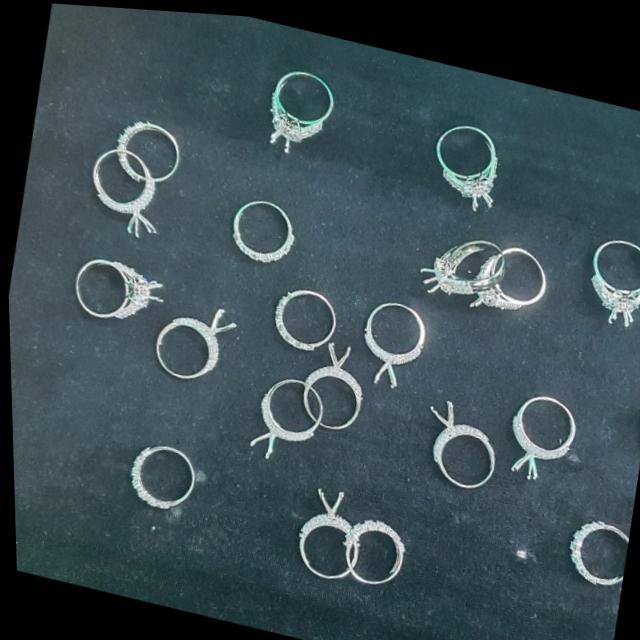Ring: (241, 42, 348, 161), (408, 387, 508, 501), (138, 284, 241, 393), (72, 135, 173, 243), (59, 243, 170, 338), (495, 374, 582, 485), (285, 475, 368, 591), (238, 363, 328, 468), (292, 327, 377, 436), (350, 288, 437, 393), (411, 217, 512, 307), (425, 107, 510, 213), (467, 225, 554, 324), (571, 221, 640, 332), (118, 430, 200, 521), (103, 105, 188, 191), (219, 188, 302, 271), (337, 505, 412, 595), (264, 273, 343, 356), (558, 503, 629, 586)
